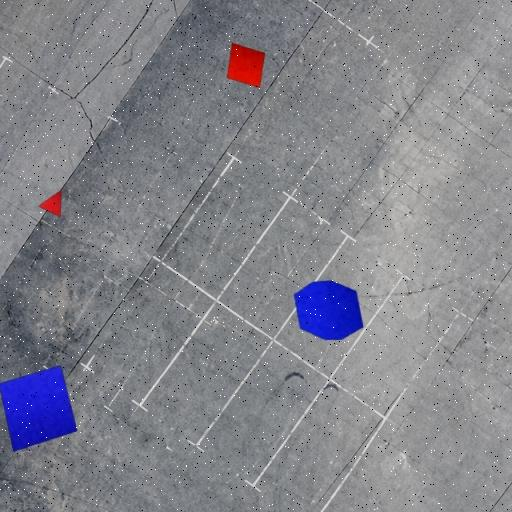BLUE_SQUARE: (0, 365, 78, 452)
RED_SQUARE: (226, 42, 266, 89)
